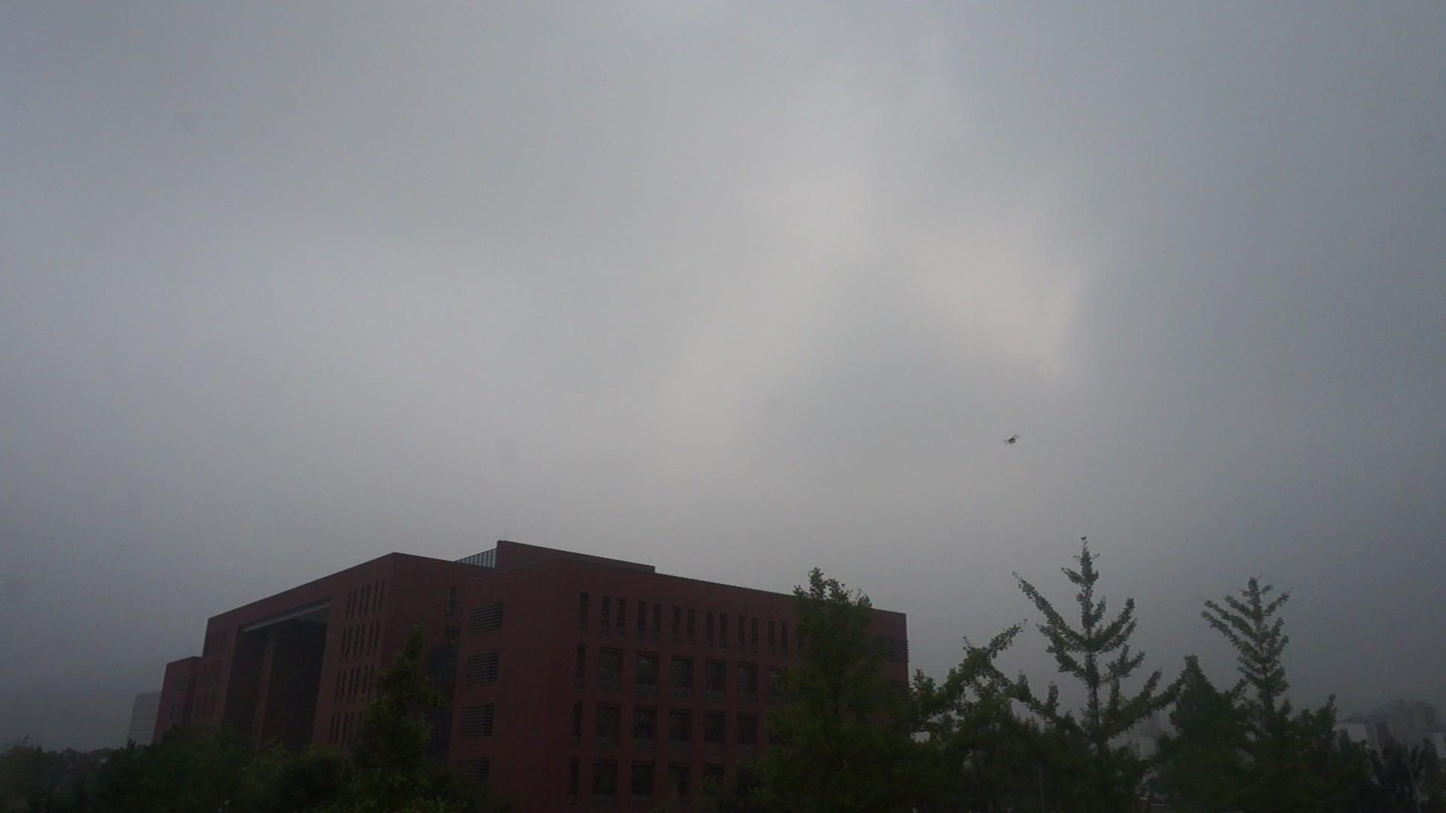UAV: (1003, 434, 1021, 446)
